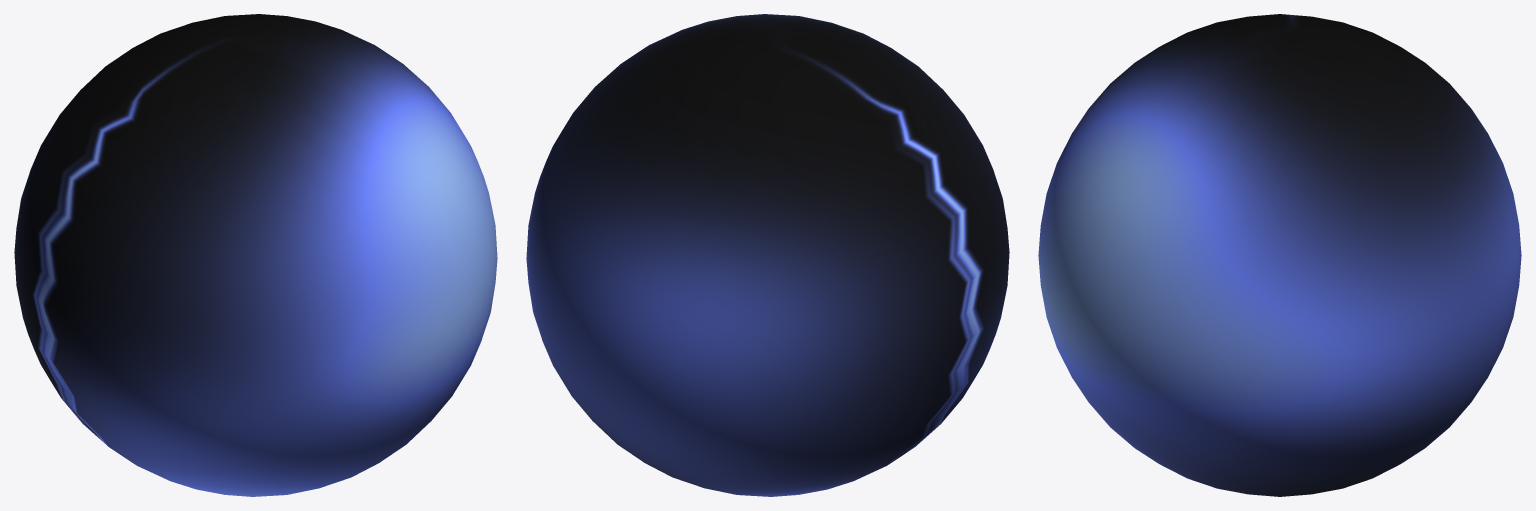
Rendered from neural_sphere_base.obj.
The picture shows the model from 3 angles, left to right: view 1: azimuth 30°, elevation 25°; view 2: azimuth 150°, elevation 25°; view 3: azimuth 270°, elevation 25°; orthographic projection.
Bounding box in the file's own units: 2 × 2 × 2.
Materials: 1 (1 with a texture image).
